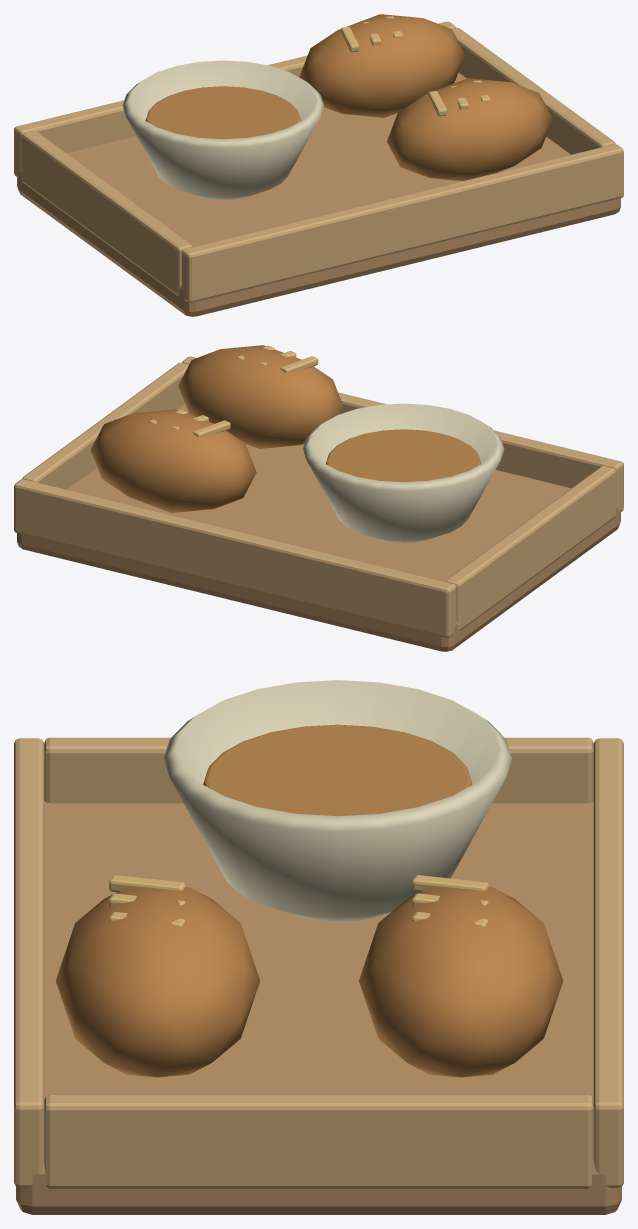
File: food_tray_bread.glb
The picture shows the model from 3 angles, top to bottom: view 1: azimuth 30°, elevation 25°; view 2: azimuth 150°, elevation 25°; view 3: azimuth 270°, elevation 25°; orthographic projection. The views are drawn at different scales.
Visible parts, largest first — view 1: food_tray_bread; view 2: food_tray_bread; view 3: food_tray_bread.
Boxes of the visible parts, x1=… form: food_tray_bread: x1=14, y1=14, x2=623, y2=316; food_tray_bread: x1=14, y1=345, x2=623, y2=651; food_tray_bread: x1=14, y1=680, x2=623, y2=1214.
Bounding box in the file's own units: 0.462 × 0.129 × 0.322.
